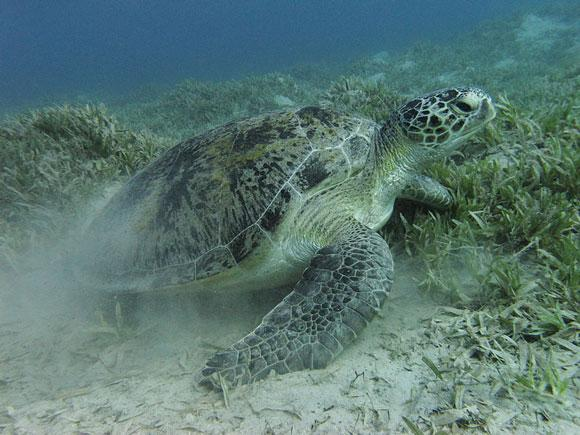turtle: (384, 81, 498, 150)
